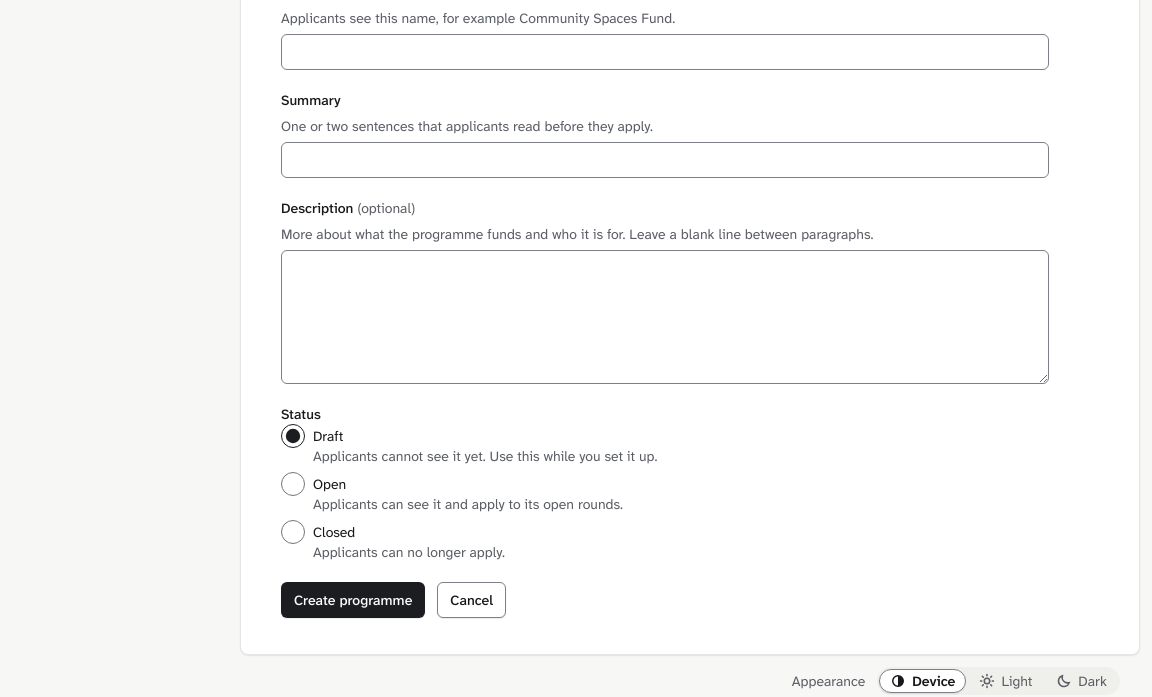
Test case: creating a programme › says what is missing beside each field and in a summary, and sends nothing
(page scrolled)
Click the button "Create programme". click: click(353, 600)
box: [281,582,425,618]
(page scrolled)
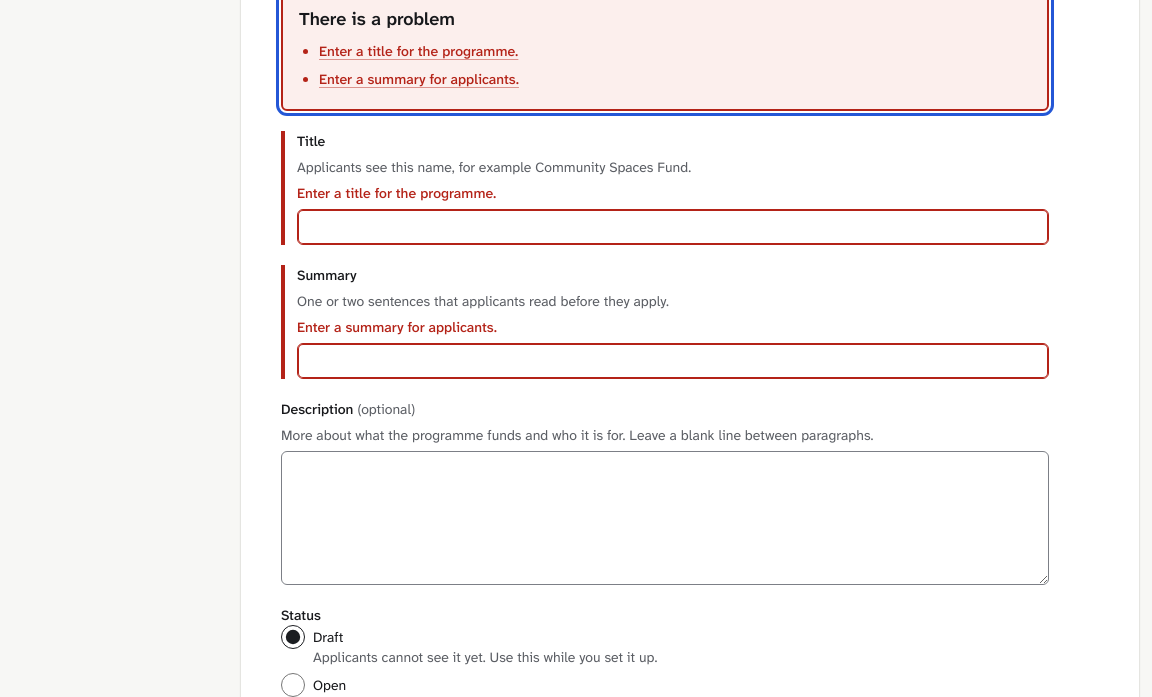
Now the links read "Enter a title for the programme.", "Enter a summary for applicants.", in this order, box [319,42,518,60]; [319,70,519,88]
